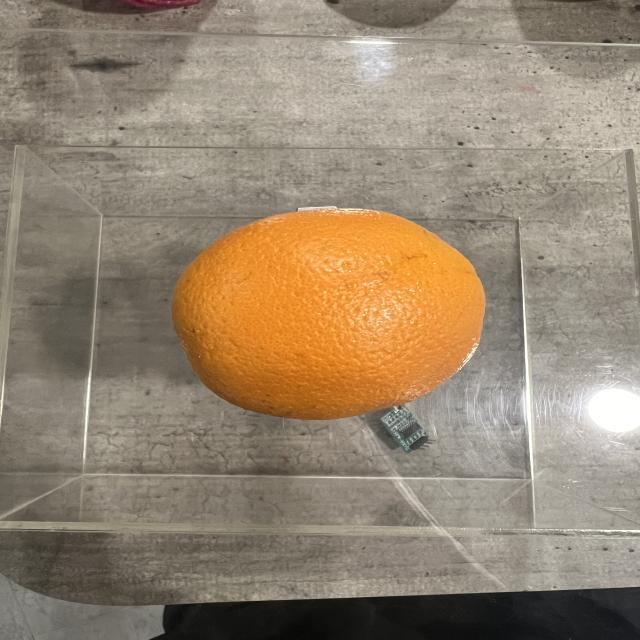orange: (170, 205, 486, 418)
